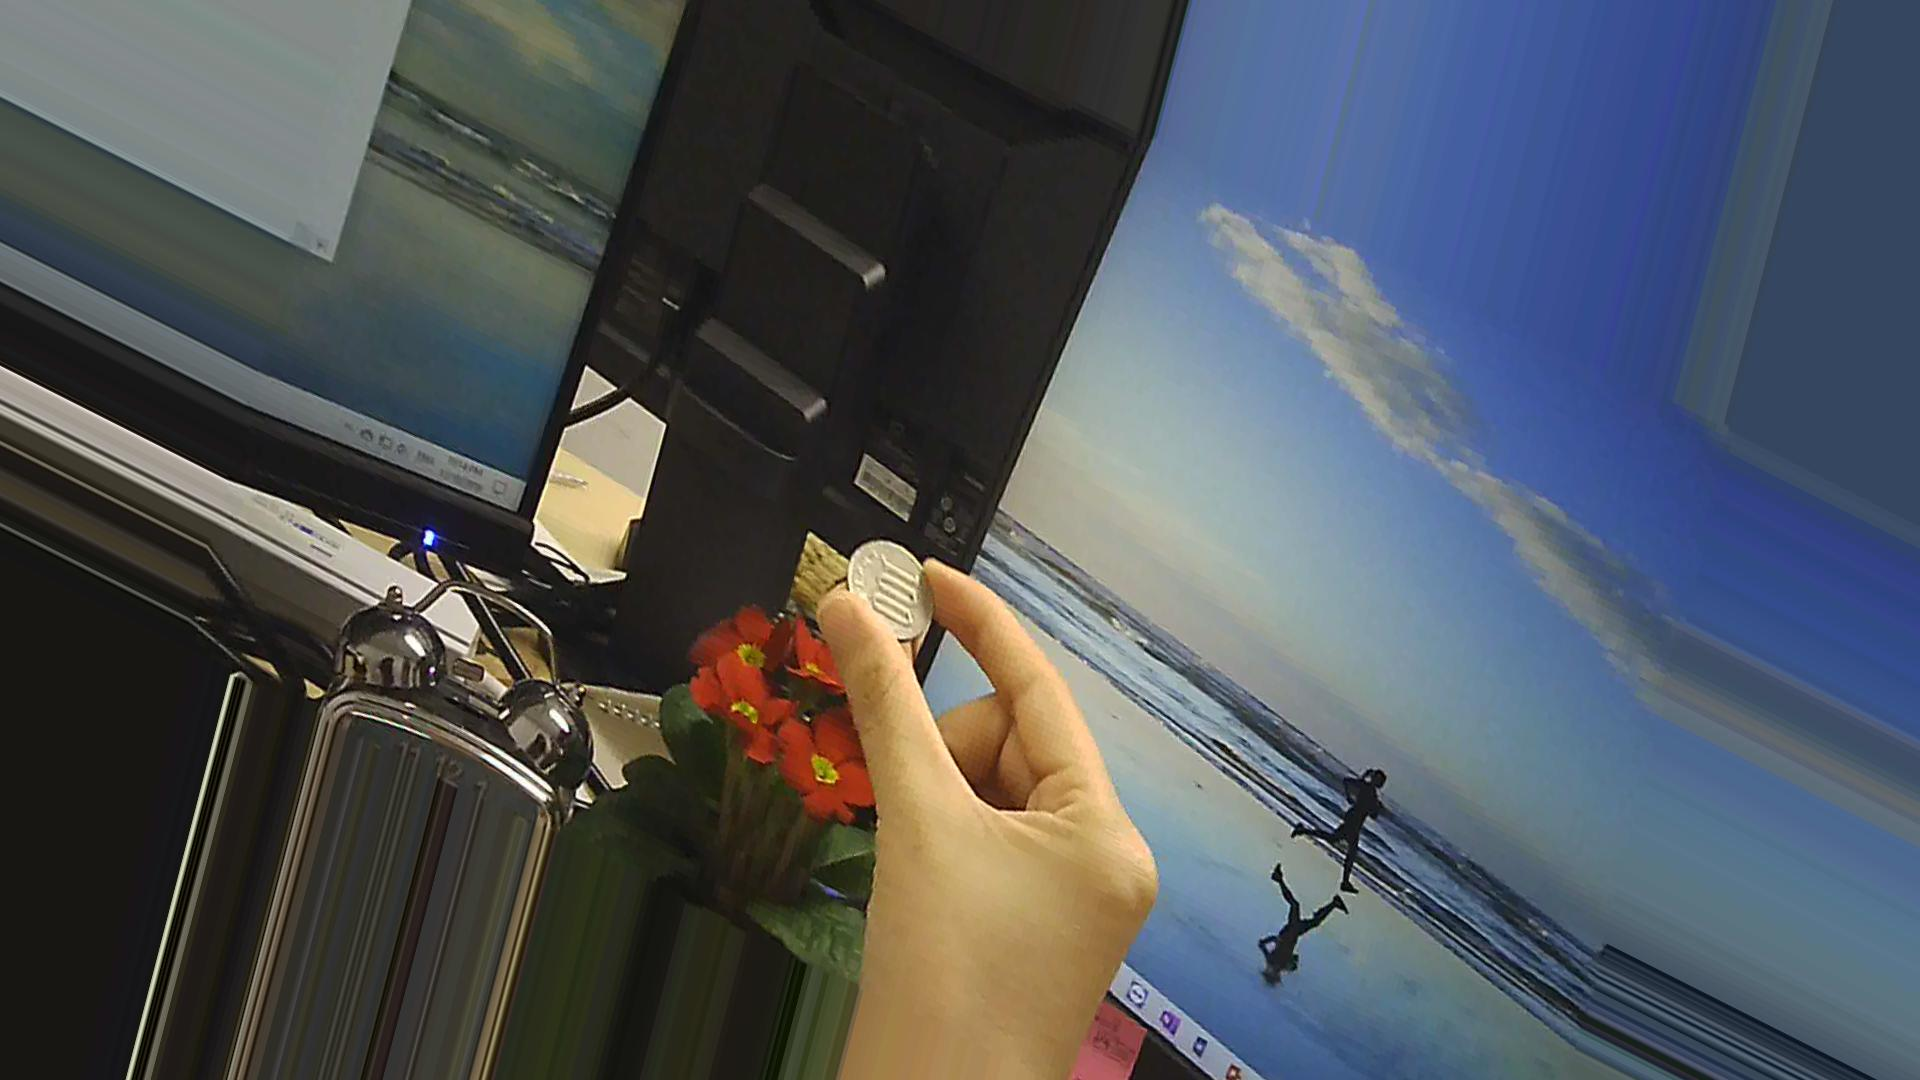100 Yen: (843, 518, 938, 647)
